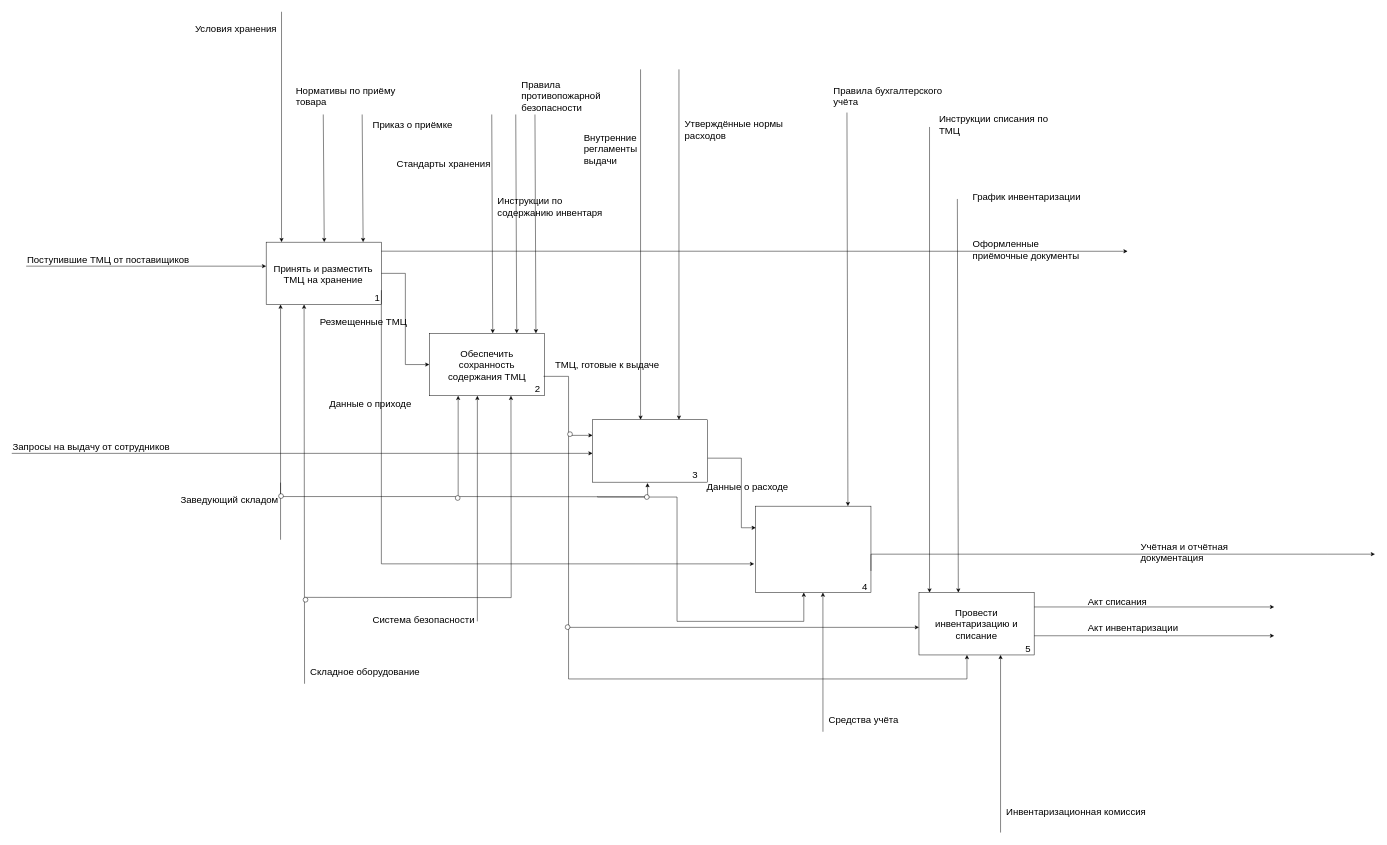
Image size: 1387x845. Some labels were removed from this diagram. Here are the shapes that lost their labels. From the top down, the box of each, then its label:
(592, 419, 708, 482): Выдать ТМЦ по запросу
(755, 506, 871, 593): Вести учёт и отчётности
